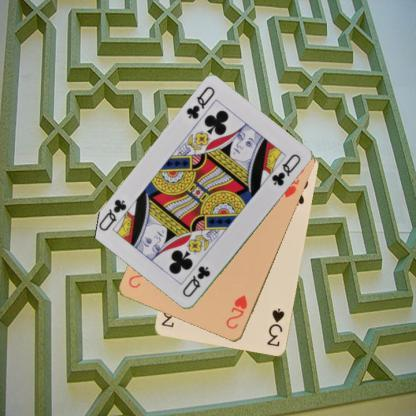2h: (224, 292, 249, 330)
3s: (264, 306, 286, 348)
Qc: (183, 84, 216, 121), (180, 264, 212, 300)
